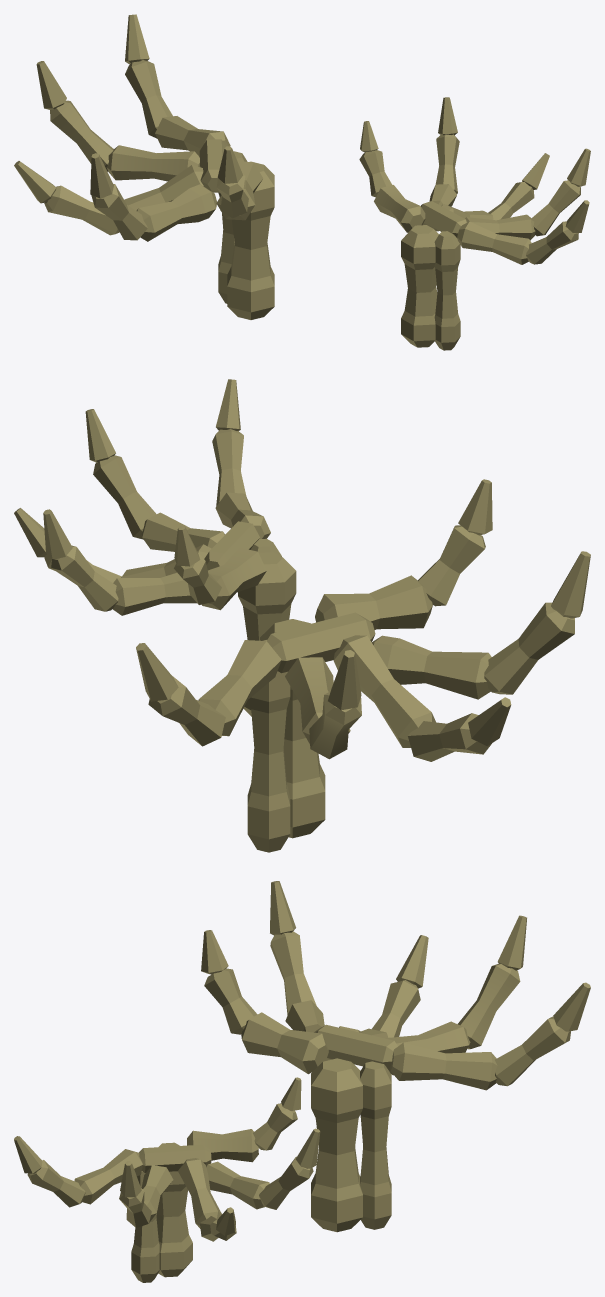
The model's file is SmallLess_SF_baigu2.fbx.
The picture shows the model from 3 angles, top to bottom: view 1: azimuth 30°, elevation 25°; view 2: azimuth 150°, elevation 25°; view 3: azimuth 270°, elevation 25°; orthographic projection. The views are drawn at different scales.
Parts seen in each view (by area): view 1: SF_baigu2; view 2: SF_baigu2; view 3: SF_baigu2.
Part boxes in pixels (x1,y1,x2,y2): SF_baigu2: [14, 14, 590, 350]; SF_baigu2: [14, 379, 590, 852]; SF_baigu2: [14, 881, 590, 1282].
Bounding box in the file's own units: 326 × 160 × 333.
